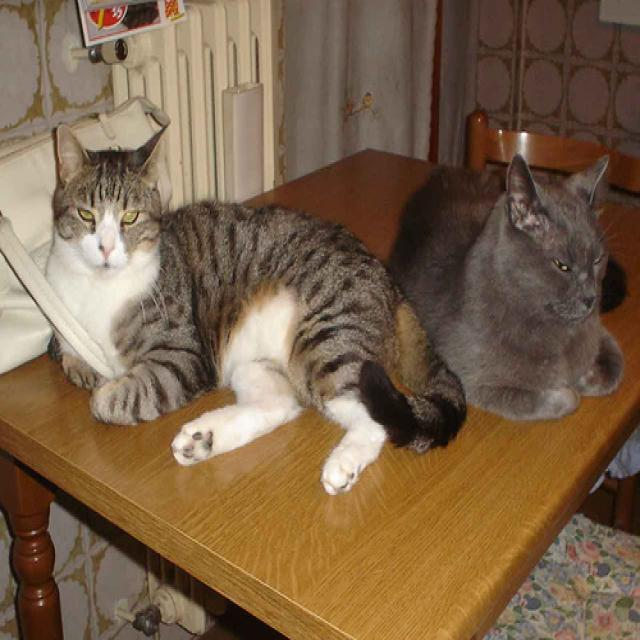left eye: (119, 206, 141, 227)
